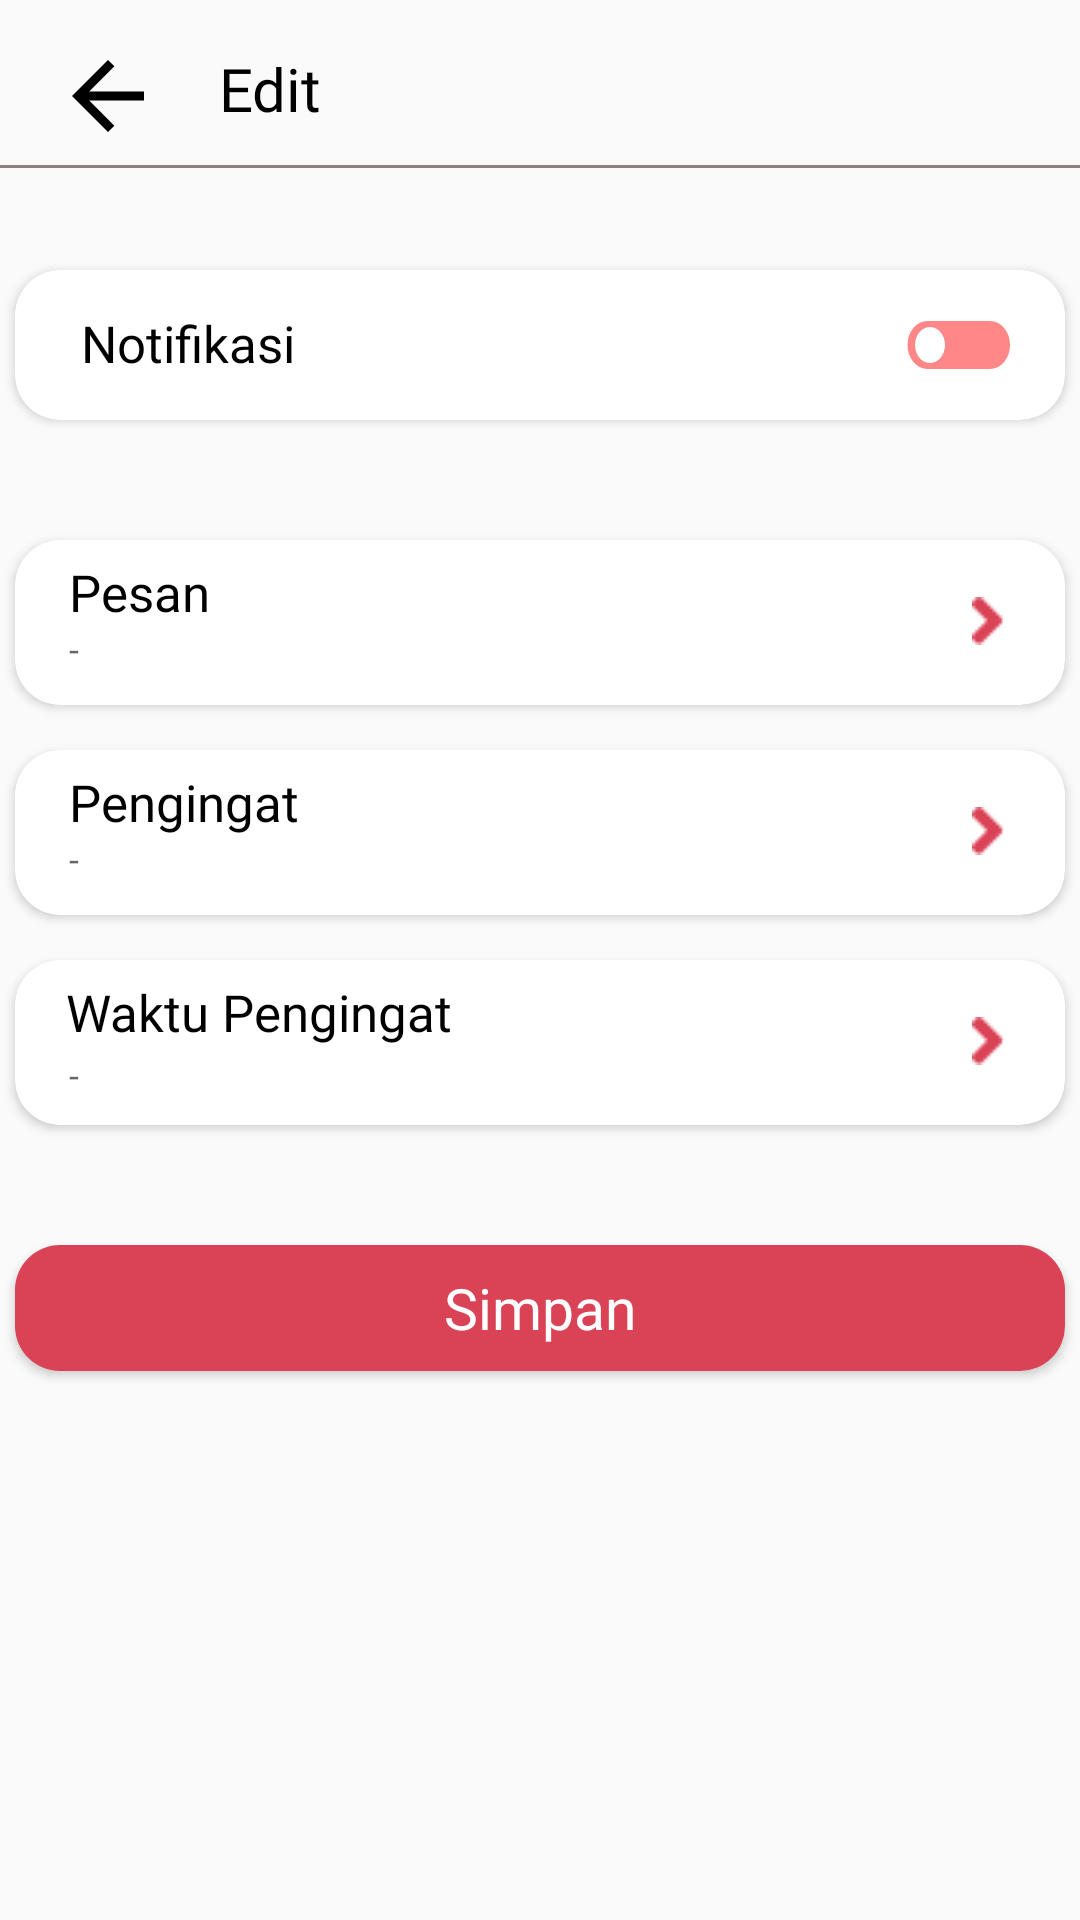

Where icons sit on this 1080w x 1920h app screen, as (x1, y1, x2, y2):
back: (72, 60, 144, 132)
nextpage: (972, 597, 1003, 645), (972, 807, 1003, 855), (972, 1017, 1003, 1065)
